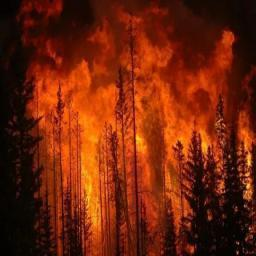Heavy smoke: (7, 0, 249, 178)
Large fire: (1, 82, 256, 251)
